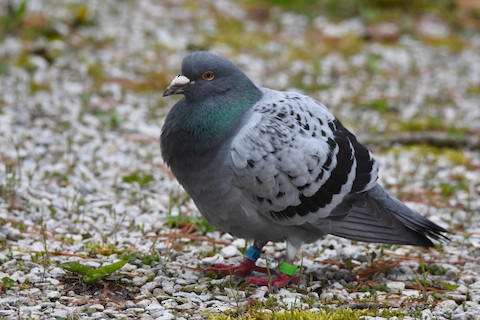pigeon: (157, 46, 458, 290)
